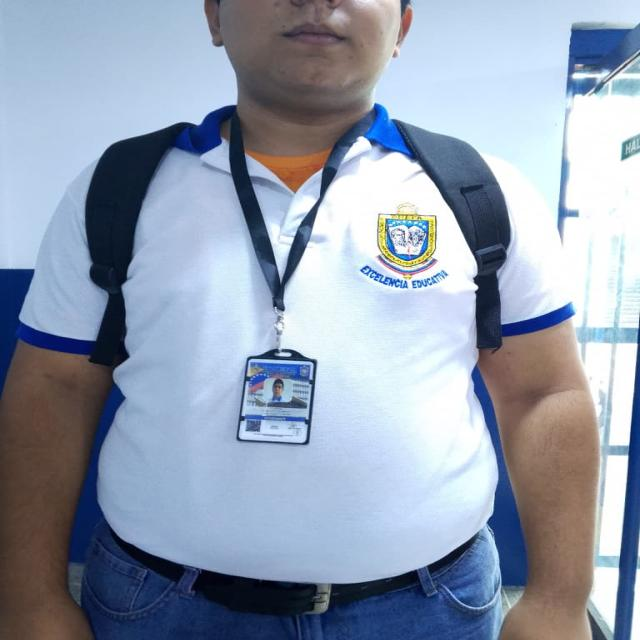carnet: (238, 358, 314, 443)
uniforme_superior: (16, 102, 578, 584)
